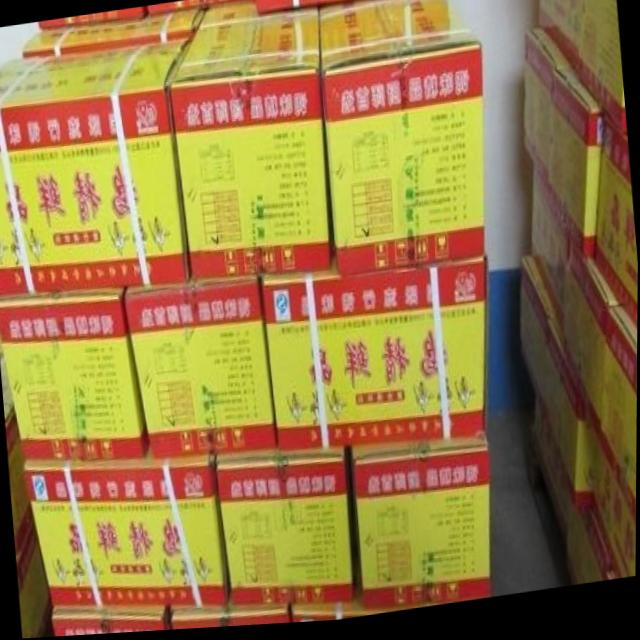box: (0, 40, 189, 301), (316, 0, 487, 277), (260, 259, 488, 456), (170, 1, 330, 281), (24, 458, 231, 610), (123, 279, 277, 462), (0, 293, 151, 458), (351, 441, 493, 611), (218, 452, 353, 606), (559, 250, 614, 443), (544, 75, 600, 264), (592, 128, 638, 334), (541, 335, 593, 515), (597, 314, 638, 527), (21, 8, 205, 54), (522, 29, 569, 202), (572, 0, 626, 142), (587, 445, 637, 587), (531, 172, 568, 341), (520, 258, 552, 416), (536, 0, 580, 81), (53, 608, 170, 637), (170, 607, 291, 632), (255, 0, 381, 18)
